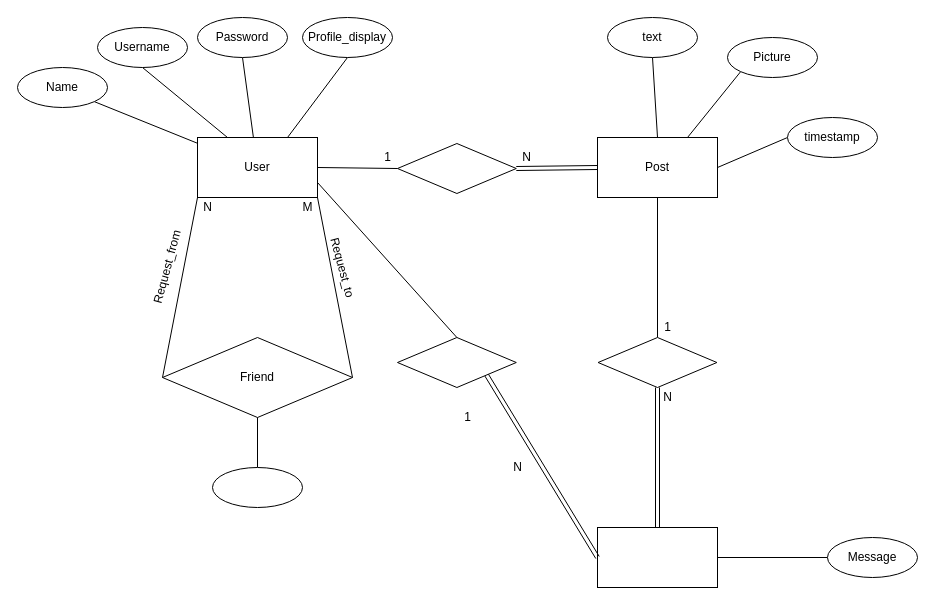
The diagram is 935 pixels wide and 605 high, and some of its shapes have lost their labels. Each missing label, with the centre of its shape:
"belongs_to" belongs at (x=456, y=362).
"Comment" belongs at (x=657, y=557).
"create" belongs at (x=456, y=168).
"has" belongs at (x=657, y=362).
"Status" belongs at (x=257, y=487).
